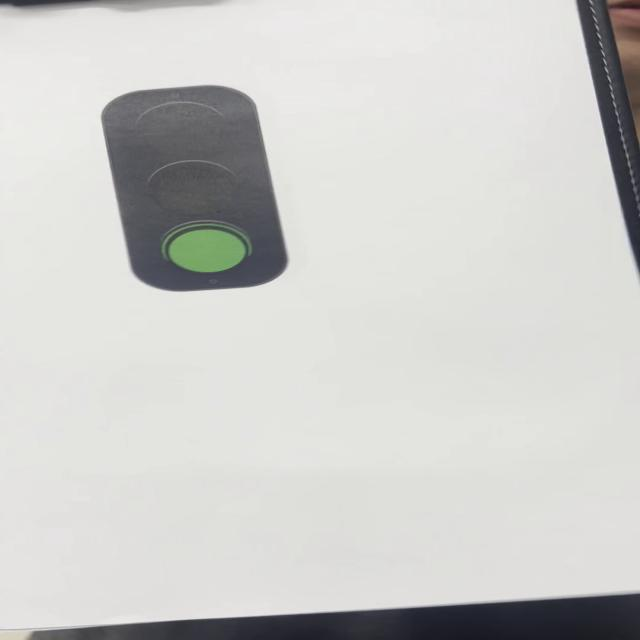green: (100, 84, 293, 291)
